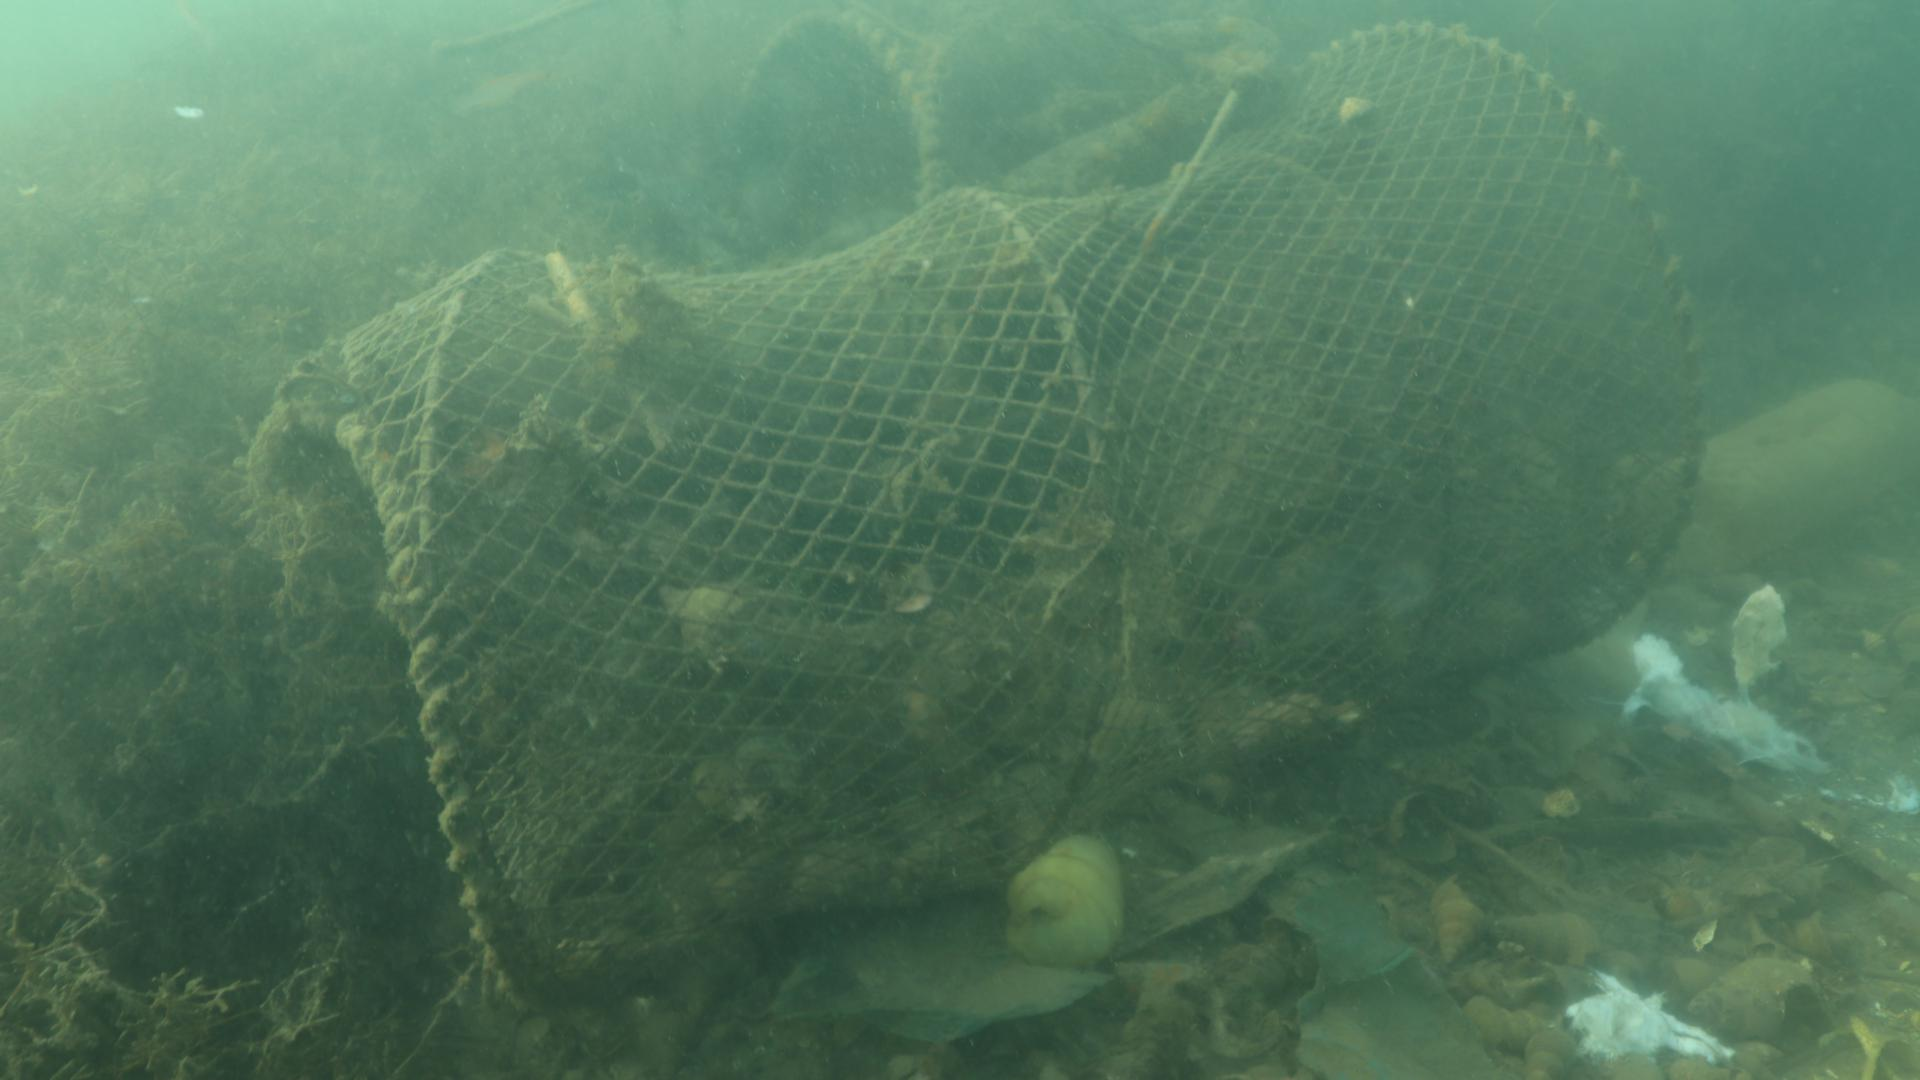spring fish trap: (243, 18, 1714, 1013)
